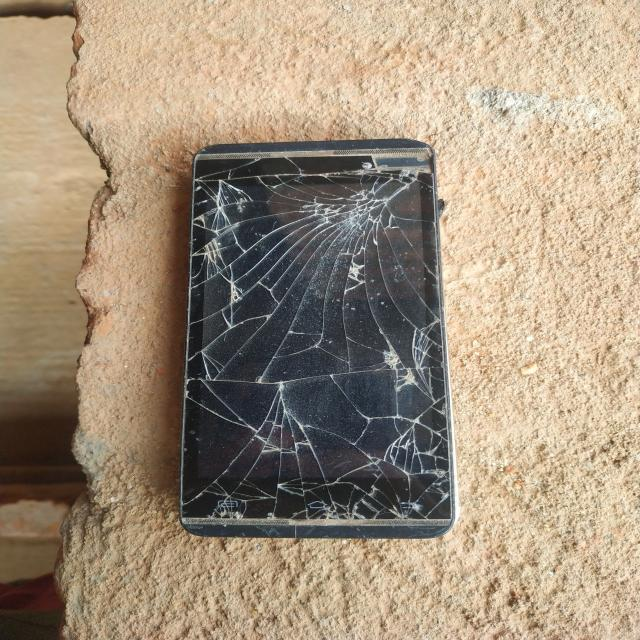Crack: (185, 267, 442, 529), (192, 147, 437, 265)
